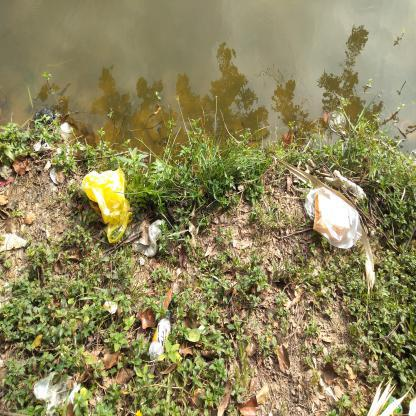plastik: (84, 168, 134, 244), (306, 188, 364, 250), (150, 313, 172, 363)
